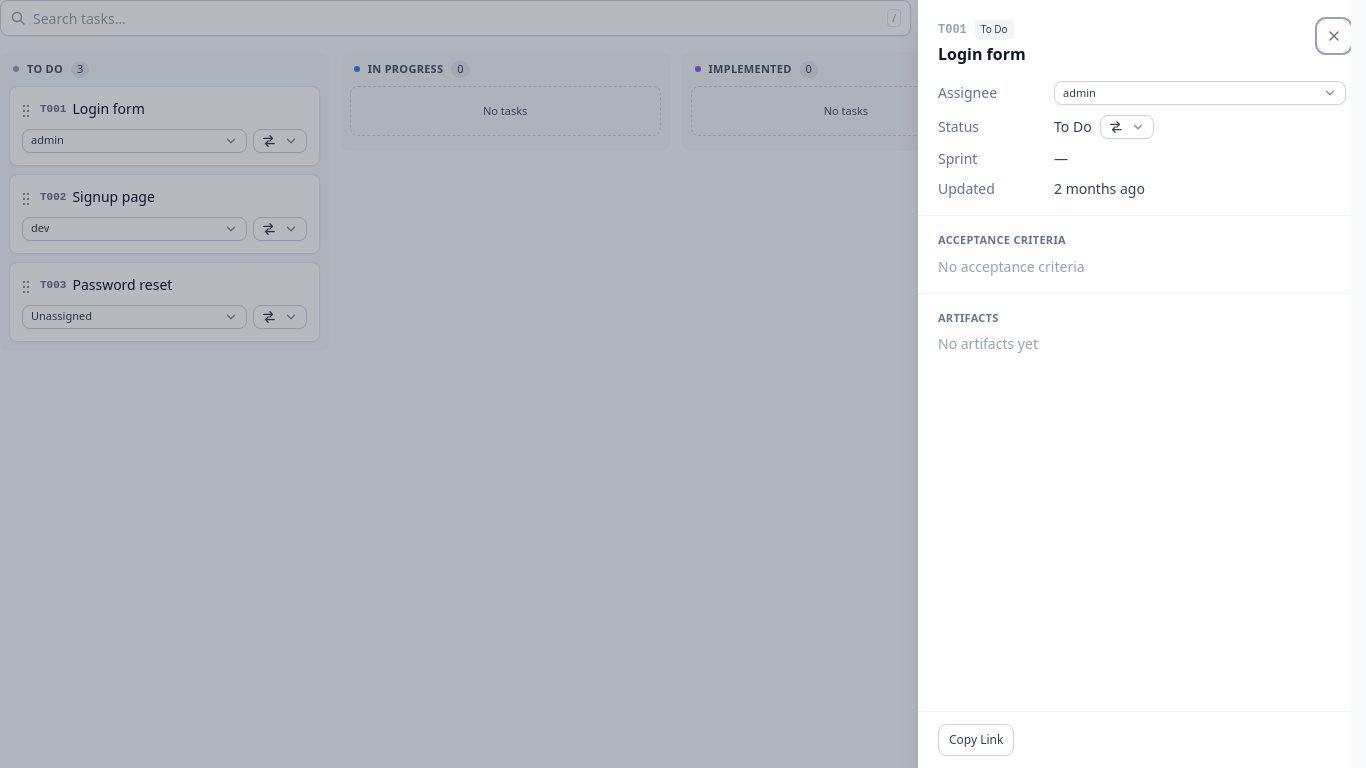
TaskBoard filters, lanes and drawer › moves a task from the drawer through the board's write path
The width and height of the screenshot is (1366, 768).
Click the dropdown named "Move T001 to another column": {"x": 1127, "y": 127} [1100, 115, 1154, 139]
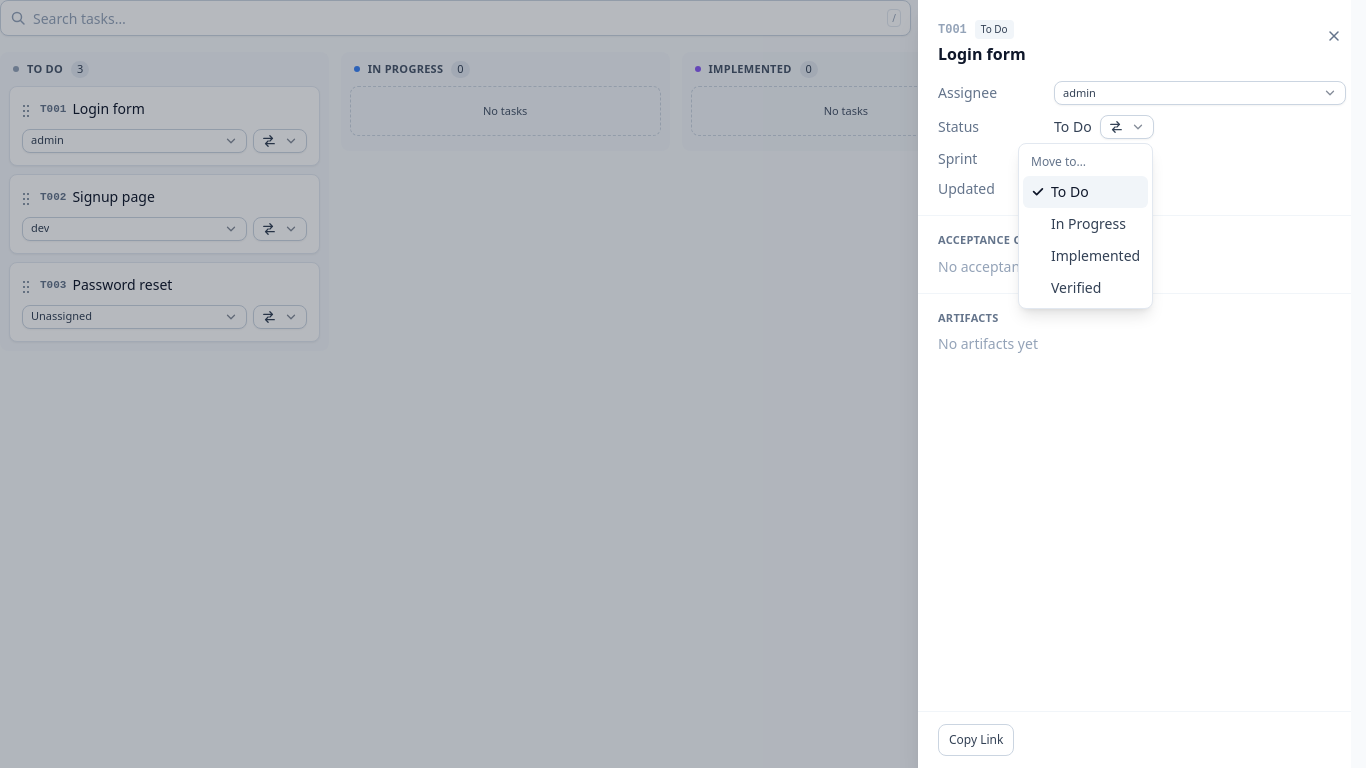
Click the option "In Progress": {"x": 1088, "y": 224} [1051, 214, 1126, 233]
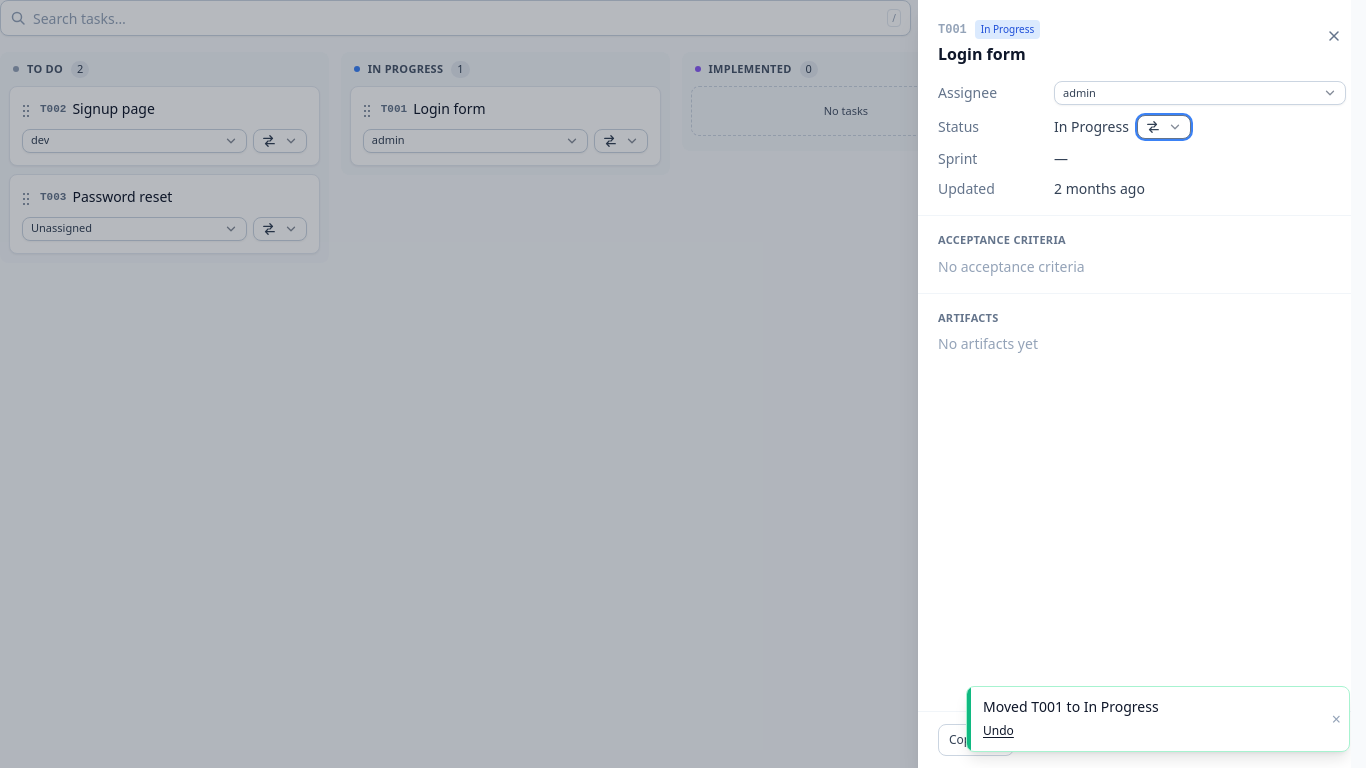
Check: the text "In Progress" next to "Status" is shown, box [1054, 117, 1129, 136]
Check: the element named "Notifications" shows "Moved T001 to In Progress", box [983, 697, 1159, 716]
